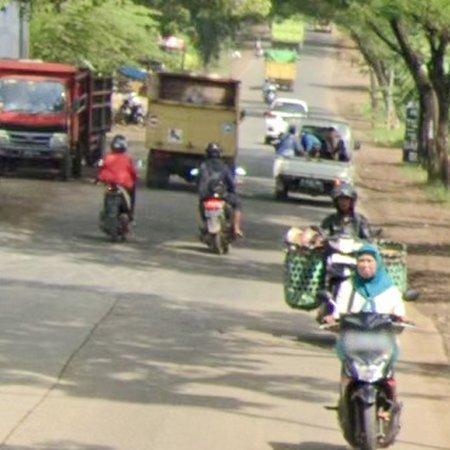motorcycles: (337, 315, 415, 450), (201, 194, 234, 255), (99, 185, 131, 241)
